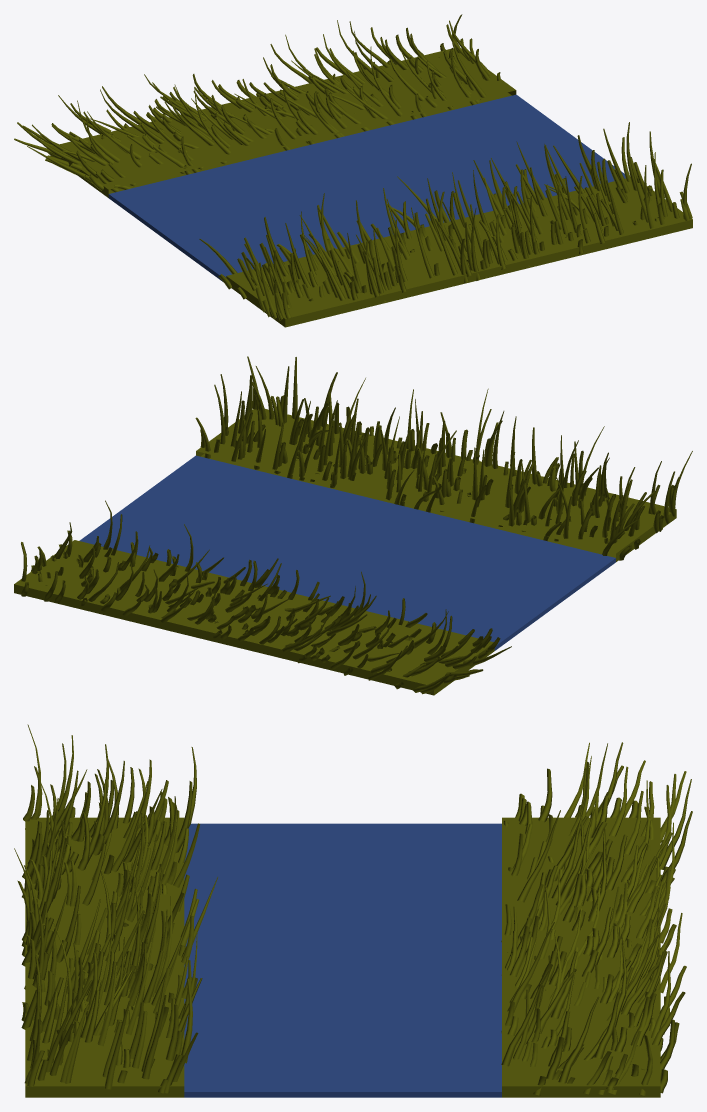
Rendered from SM_Tile River.fbx.
3 renders of one model, top to bottom at view 1: azimuth 30°, elevation 25°; view 2: azimuth 150°, elevation 25°; view 3: azimuth 270°, elevation 25°, orthographic. The views are drawn at different scales.
Parts seen in each view (by area): view 1: River; view 2: River; view 3: River.
Part boxes in pixels (left/top/right/bottom): River: left=14, top=14, right=692, bottom=327; River: left=14, top=356, right=692, bottom=695; River: left=14, top=724, right=692, bottom=1097.
Size of the model in its own units: 44.51 by 7.35 by 42.07.
